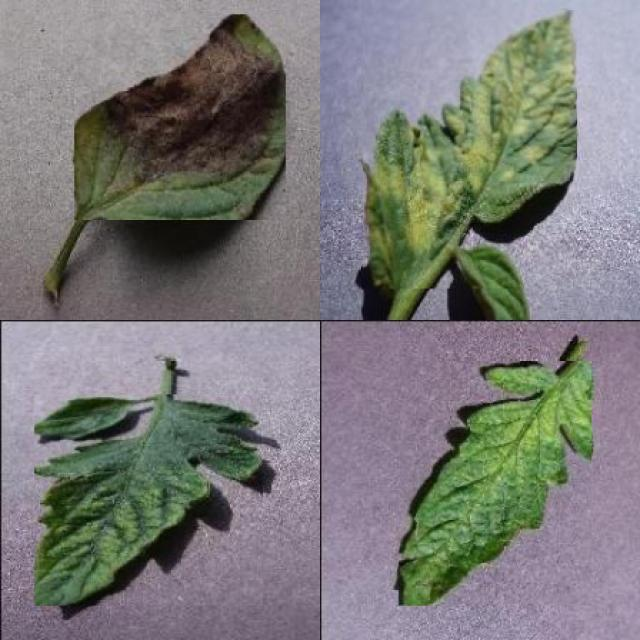Late Blight: (74, 14, 286, 220)
Leaf Mold: (363, 10, 577, 289)
Mosaic Virus: (34, 395, 263, 605), (398, 360, 592, 606)
